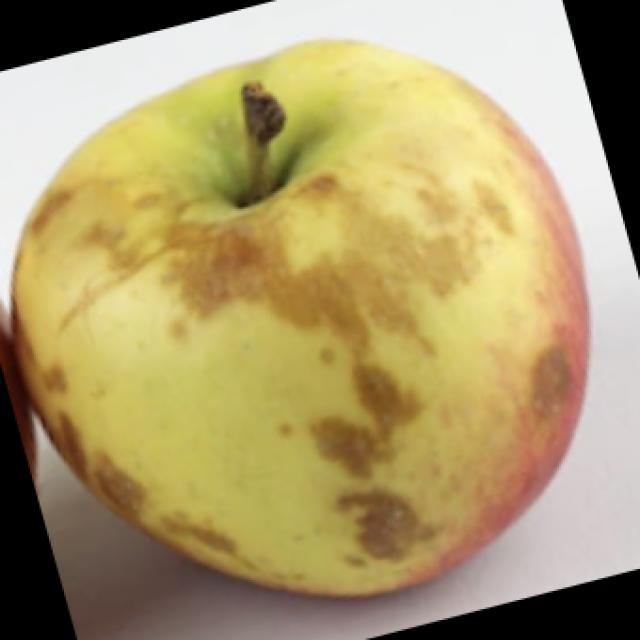Rotten: (33, 55, 600, 597)
